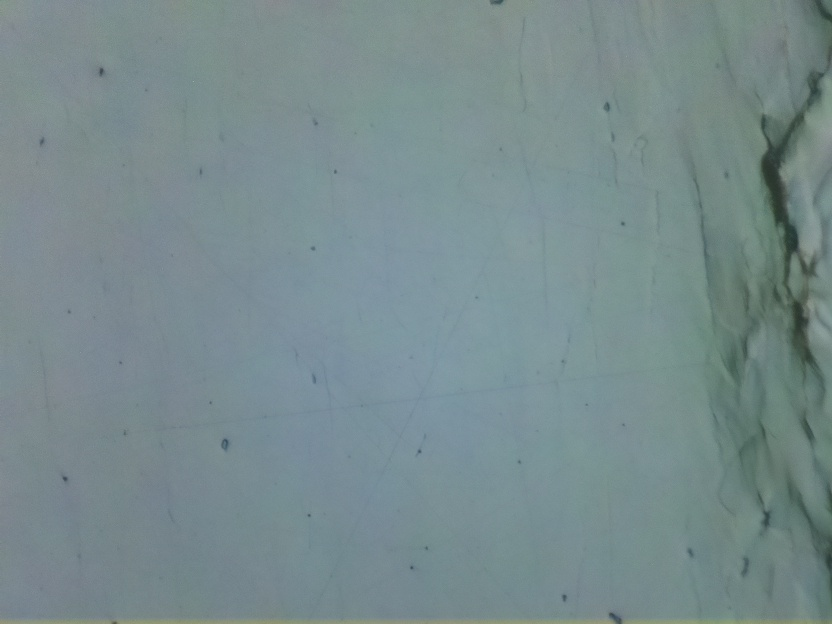crack: (757, 50, 832, 414)
